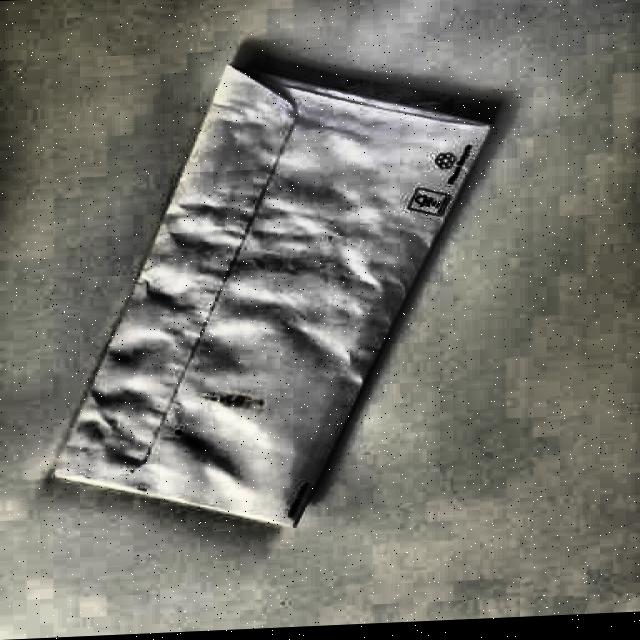paper: (44, 48, 504, 541)
